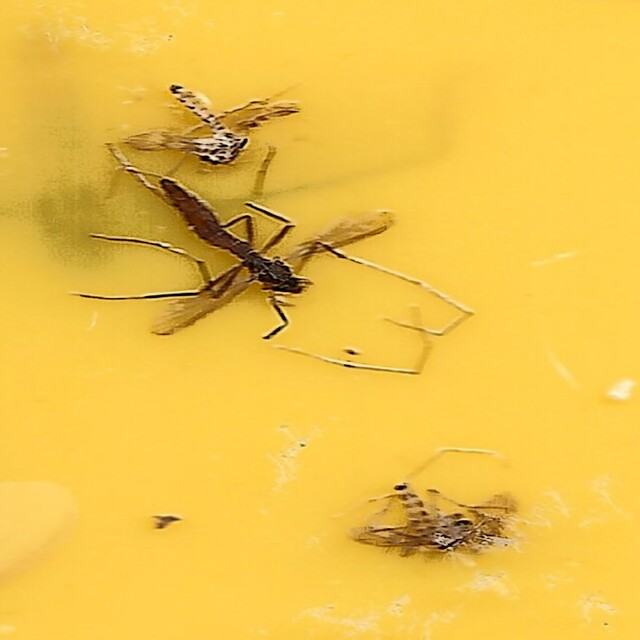Nematocera: (144, 177, 391, 346), (121, 81, 304, 169), (356, 477, 519, 559)
